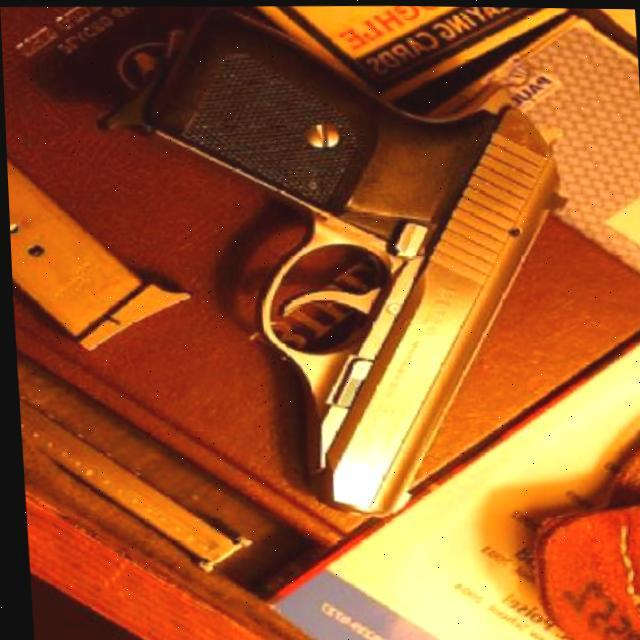gun: (101, 4, 590, 528)
